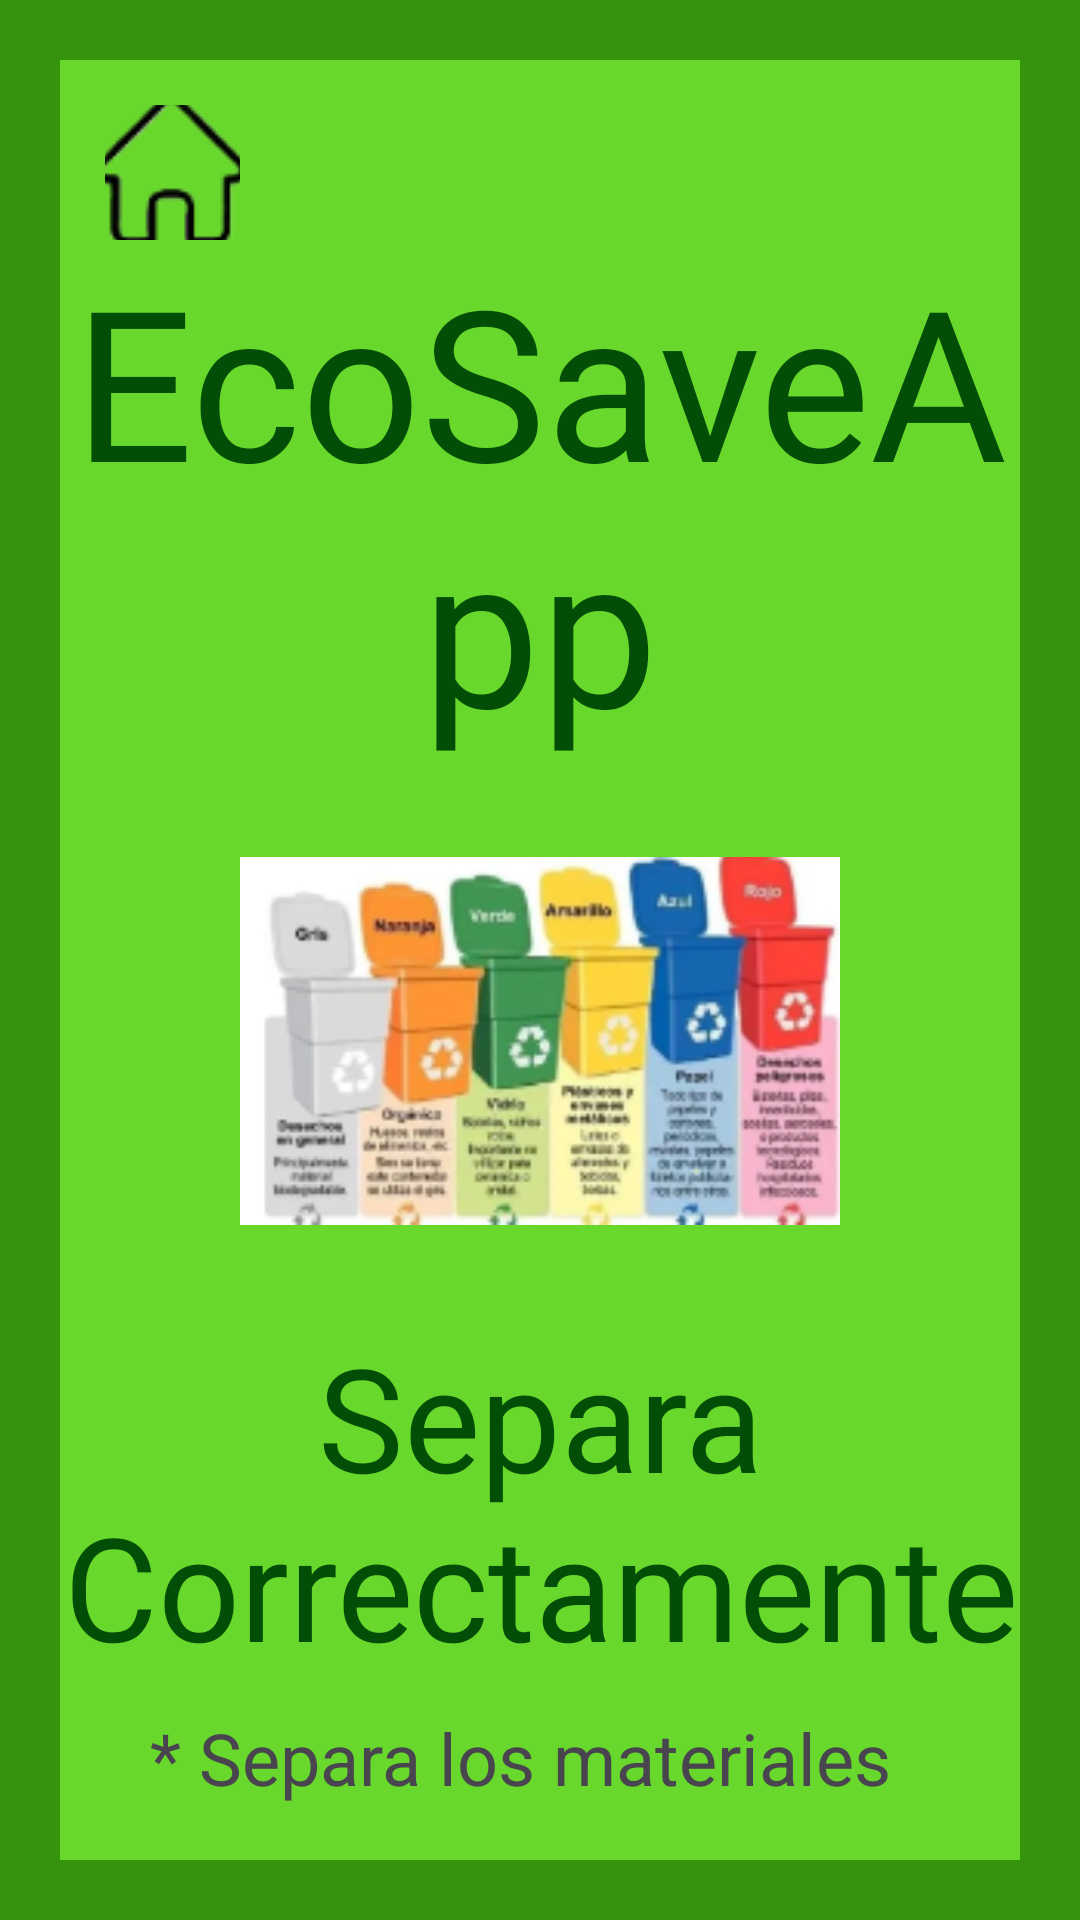

Where icons sit on this 1080x1920 app screen, as (x1, y1, x2, y2):
casa: (105, 105, 240, 240)
